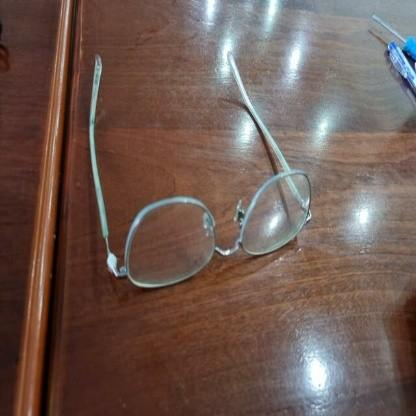not trash: (90, 52, 313, 288), (371, 14, 416, 60), (387, 40, 416, 92)
